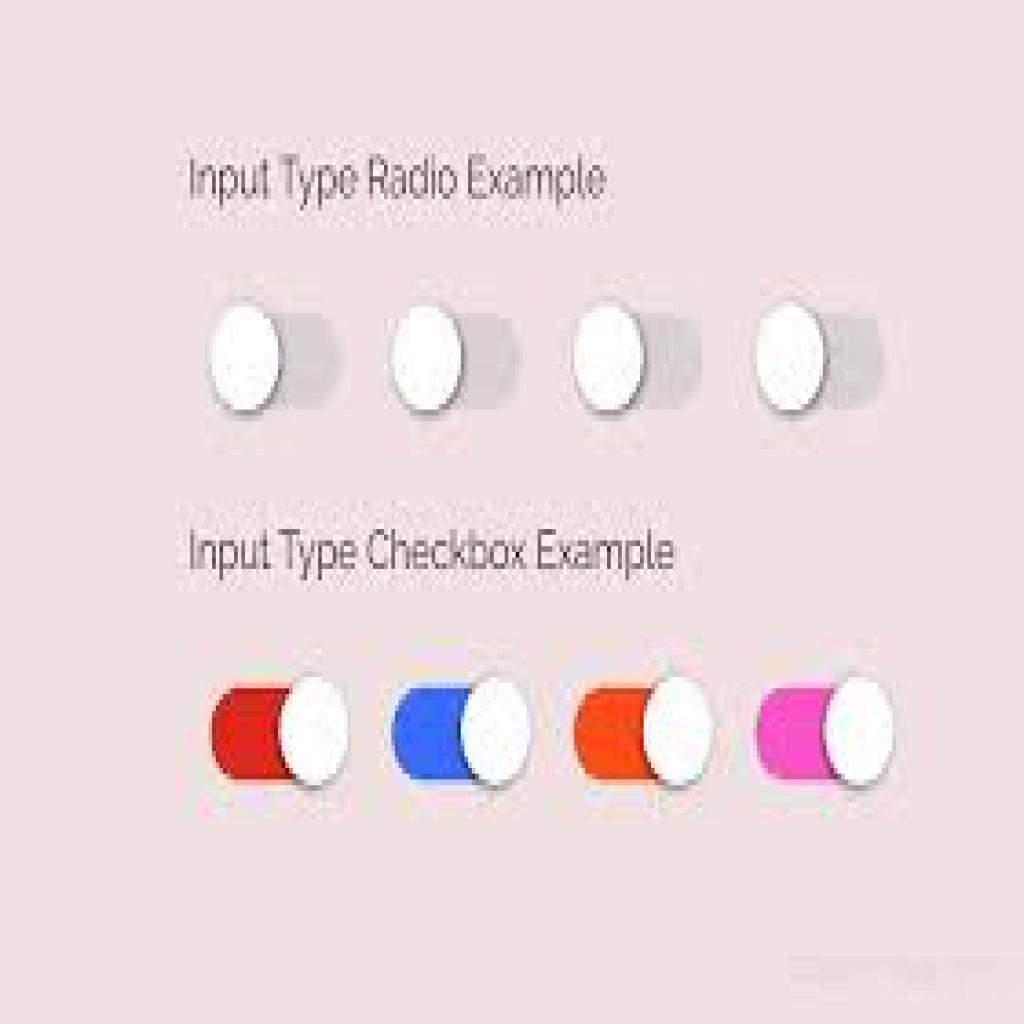switch: (754, 677, 900, 792), (391, 679, 536, 789), (574, 679, 715, 792), (568, 301, 706, 415), (386, 303, 525, 416), (209, 678, 352, 787), (759, 298, 889, 417), (212, 300, 340, 419)
